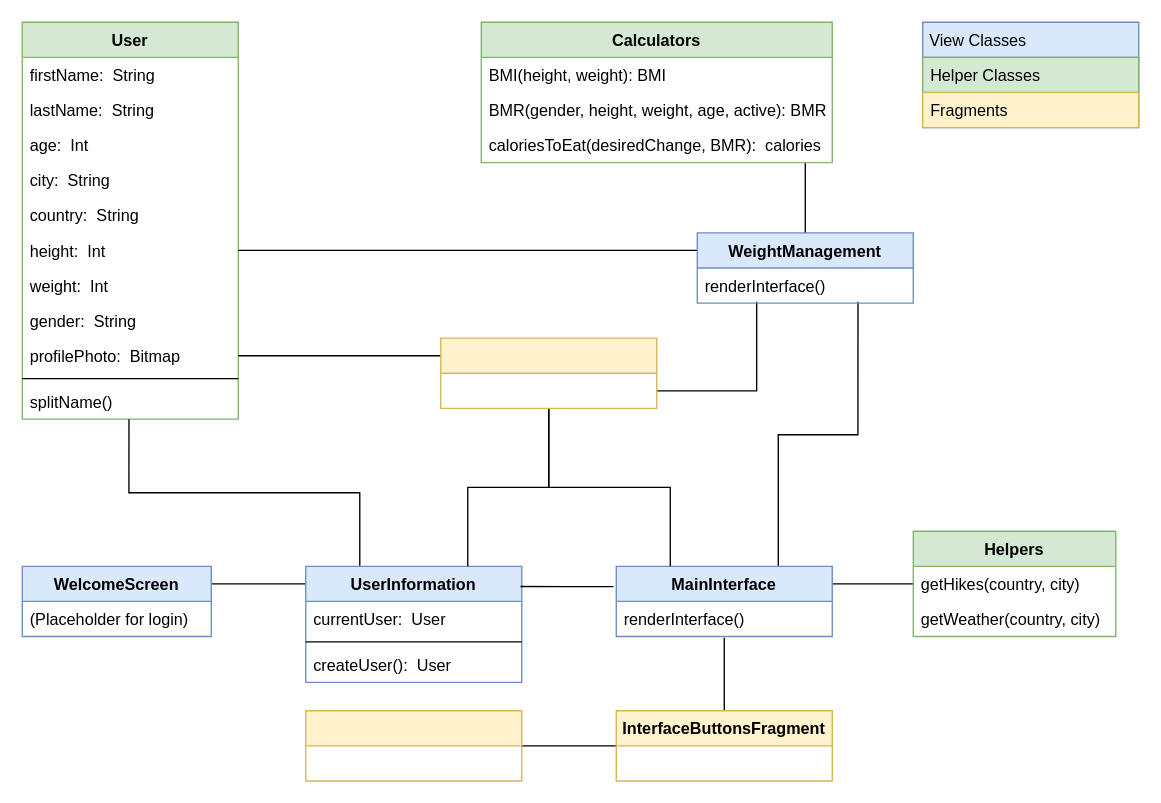
The diagram is 1161 pixels wide and 803 high, and some of its shapes have lost their labels. The shapes that lost their labels are listed below. From the top down, each one's centre as x and y in pixels, then its label:
At point (548, 372): "ProfilePicFragment".
At point (413, 745): "IndividualButtonFragment".
